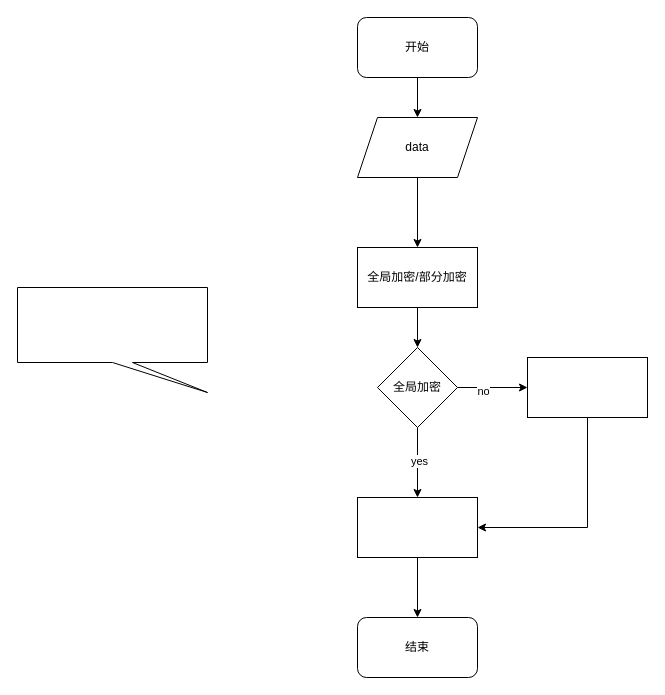
Image size: 665x695. Some labels were removed from this diagram. The shapes that lost their labels are listed below. From the top down, each one's centre as x and y in pixels, then its label:
the point at 112,339: 全局加密本身是不可篡改， 没有提取摘要的必要
the point at 587,387: 提取摘要
the point at 417,527: 编码
